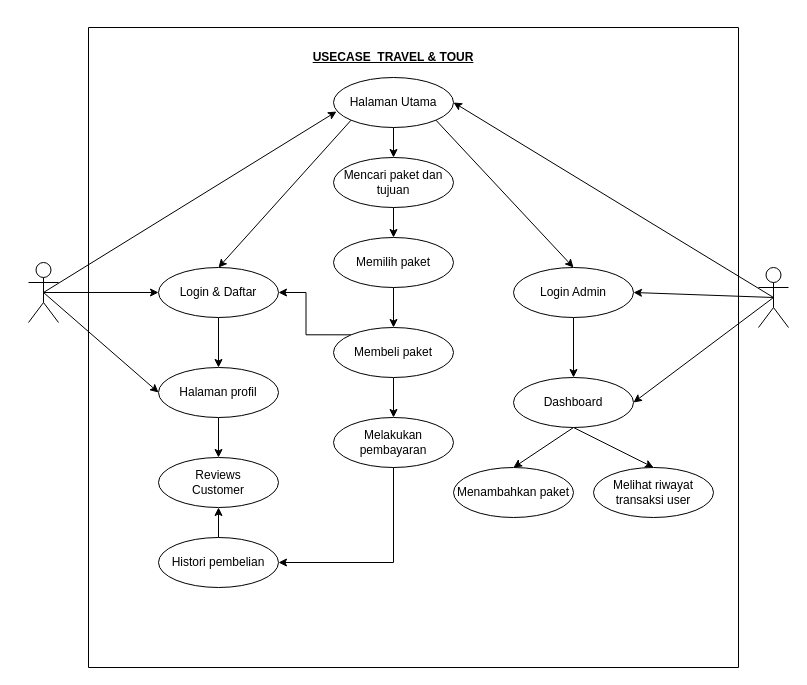
This 807x685 diagram has some shape labels left out. The centre of each missing label's shape, as x and y in pixels:
Admin: [773,297]
Customer: [43,292]
